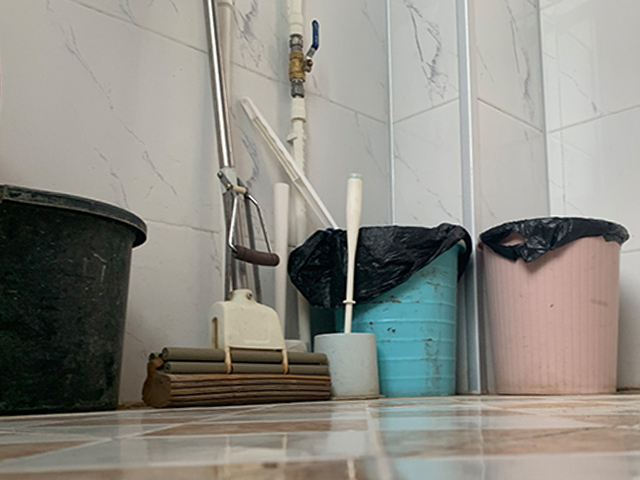trashcan: (480, 215, 630, 395), (333, 223, 472, 398)
